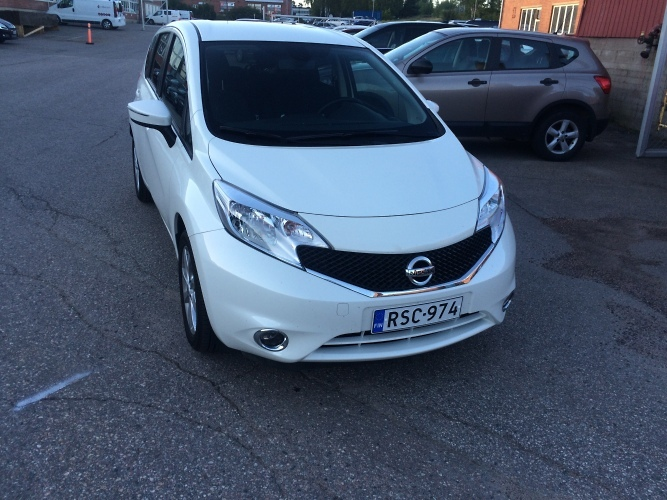license: (370, 292, 461, 333)
